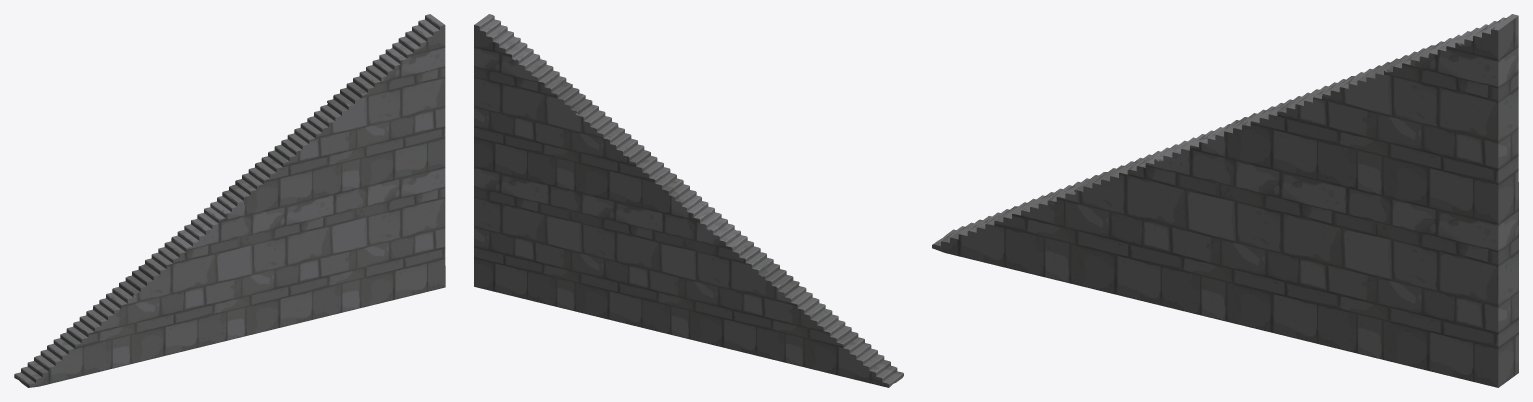
The model's file is SM_Bld_Stairs_L_02.fbx.
3 views of the same model, side by side, from view 1: azimuth 30°, elevation 25°; view 2: azimuth 150°, elevation 25°; view 3: azimuth 330°, elevation 25° (orthographic). The views are drawn at different scales.
Visible parts, largest first — view 1: SM_Bld_Stairs_L_02; view 2: SM_Bld_Stairs_L_02; view 3: SM_Bld_Stairs_L_02.
Part boxes in pixels (bbox=[...]): SM_Bld_Stairs_L_02: bbox=[14, 14, 445, 387]; SM_Bld_Stairs_L_02: bbox=[474, 14, 903, 387]; SM_Bld_Stairs_L_02: bbox=[932, 14, 1518, 387].
Bounding box in the file's own units: 1990 × 1200 × 125.
Materials: 1 (1 with a texture image).
